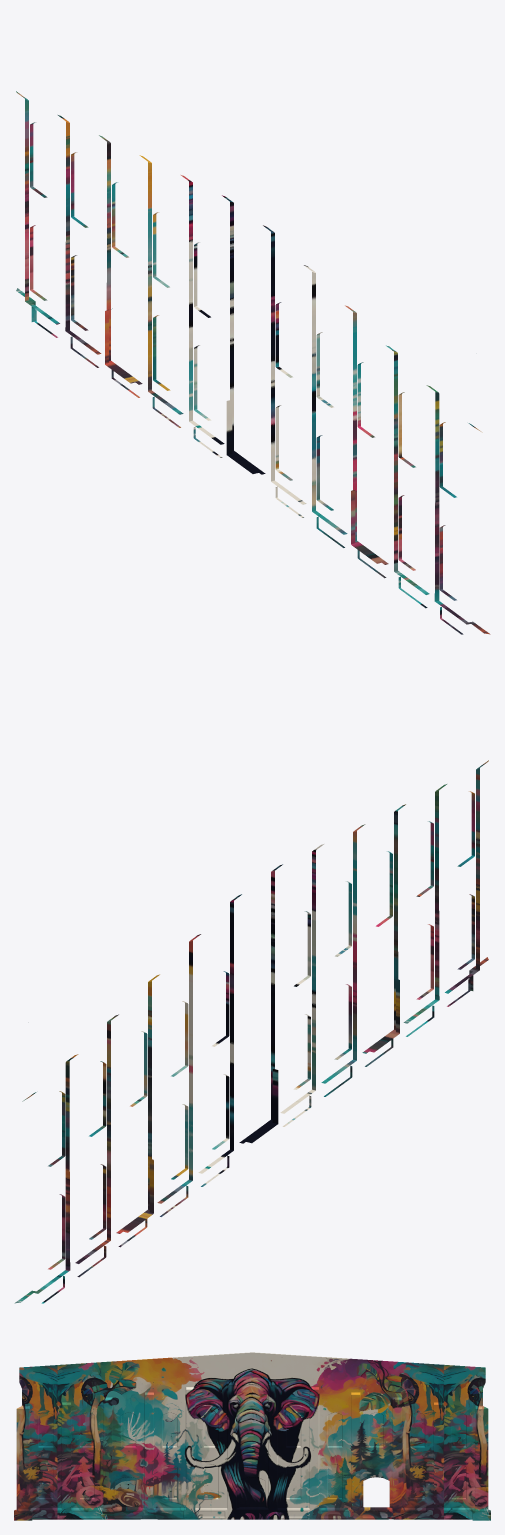
The model's file is frontwall.glb.
3 views of the same model, one above another, from view 1: azimuth 30°, elevation 25°; view 2: azimuth 150°, elevation 25°; view 3: azimuth 270°, elevation 25° (orthographic). The views are drawn at different scales.
Visible parts, largest first — view 1: FrontWall.002; view 2: FrontWall.002; view 3: FrontWall.002.
Part boxes in pixels (x1=…): FrontWall.002: x1=16, y1=91, x2=490, y2=634; FrontWall.002: x1=14, y1=760, x2=488, y2=1303; FrontWall.002: x1=14, y1=1352, x2=490, y2=1520.
Size of the model in its own units: 1.49 by 32.05 by 83.4.
1 material, 1 textured.
